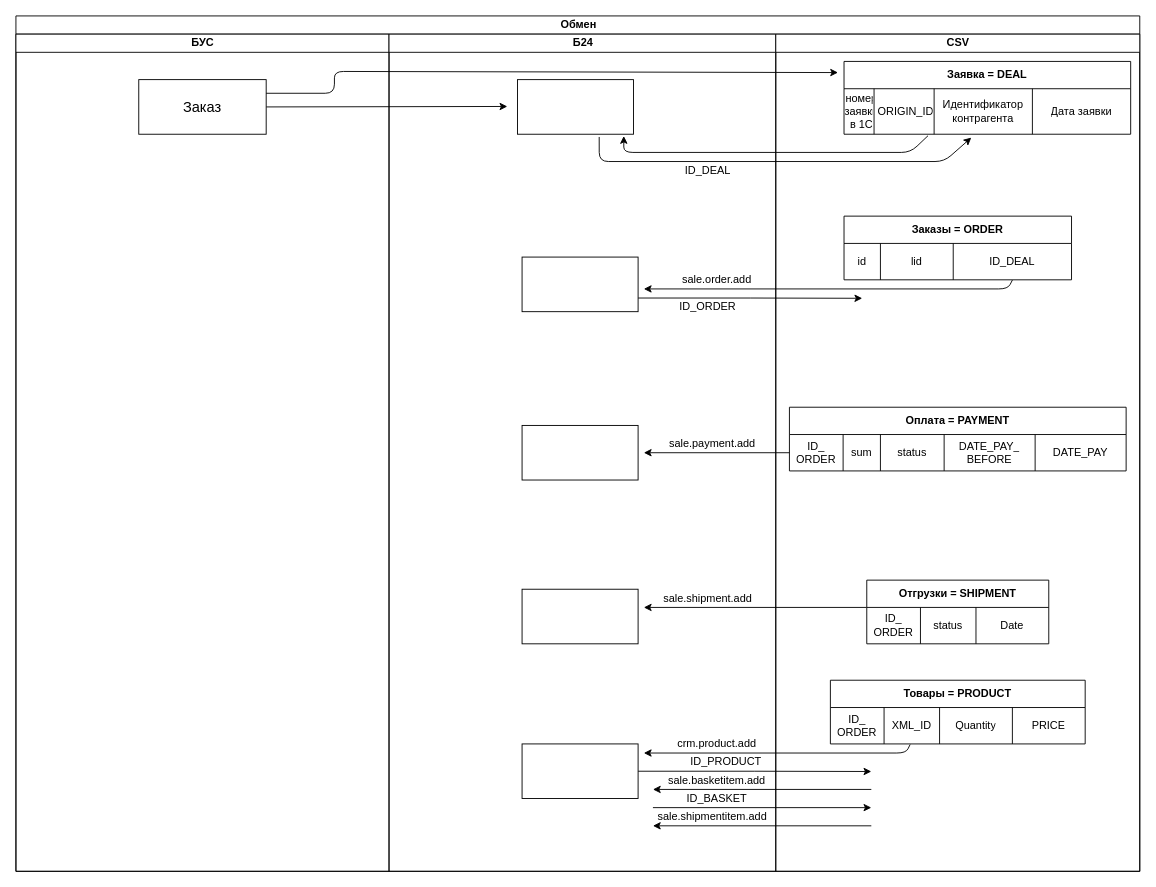
Some shapes in this 1156 by 887 pixel diagram are drawn without their labels. Each missing label, with the centre of its shape:
Заказы: the point at 579,284
Оплаты: the point at 579,452
Отгрузки: the point at 579,616
Сделка: the point at 575,106
Товары: the point at 579,771
